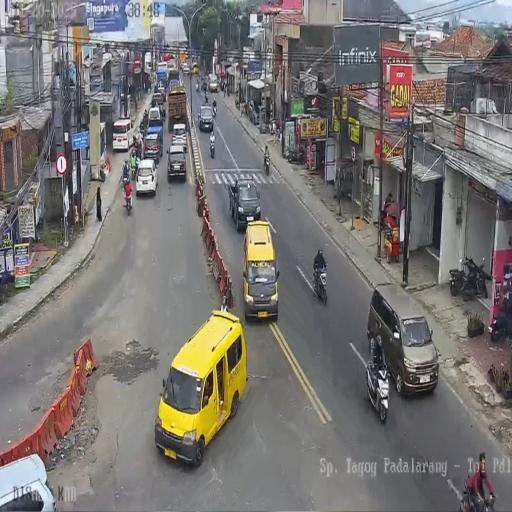3: (167, 84, 188, 135), (168, 66, 179, 89)
car: (154, 309, 246, 464), (242, 224, 279, 322), (0, 454, 56, 511), (227, 175, 260, 230), (135, 158, 158, 197), (166, 144, 188, 182), (112, 116, 133, 152), (142, 131, 162, 163), (197, 104, 214, 132), (148, 102, 163, 128), (156, 80, 166, 98), (208, 74, 218, 92), (182, 63, 190, 76), (192, 62, 199, 75)
truck: (449, 254, 490, 300), (366, 348, 389, 423), (489, 304, 509, 342), (312, 261, 328, 305), (286, 144, 304, 164), (130, 154, 140, 179), (263, 145, 270, 174), (124, 188, 132, 213), (139, 122, 146, 144), (209, 138, 215, 158), (212, 104, 217, 118), (220, 78, 225, 92), (162, 104, 166, 120), (203, 90, 208, 102), (195, 82, 200, 92)
